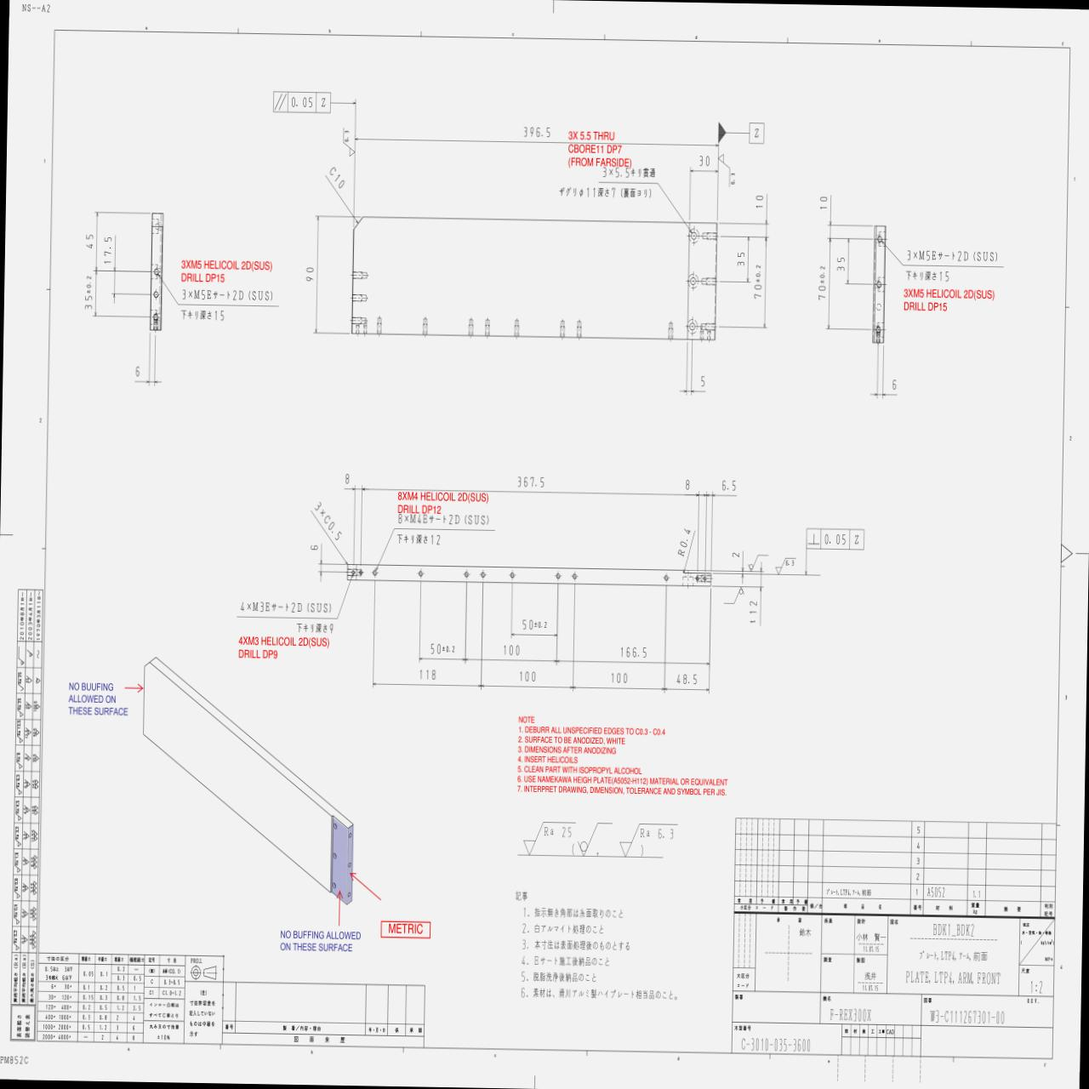basic_dimension: (518, 475, 545, 489), (84, 274, 93, 310), (523, 126, 550, 138), (621, 647, 647, 658), (818, 265, 826, 300), (523, 619, 548, 630), (754, 265, 762, 299), (431, 644, 455, 654), (677, 674, 697, 685), (104, 237, 112, 264), (615, 167, 630, 179), (721, 479, 736, 491), (612, 673, 628, 684), (420, 670, 436, 680), (520, 671, 536, 681), (504, 645, 519, 655), (85, 234, 94, 249), (699, 155, 710, 167), (737, 252, 745, 266), (837, 257, 845, 271), (306, 268, 314, 281), (755, 196, 763, 208), (820, 197, 827, 209), (685, 479, 690, 491), (345, 474, 350, 484), (136, 365, 140, 377), (732, 552, 740, 558), (701, 376, 705, 386), (893, 379, 896, 390), (311, 546, 319, 550)
datum_symbol: (718, 122, 764, 144)
dimension_chamfer_symbol: (322, 513, 342, 541), (329, 166, 345, 189)
dimension_diameter_symbol: (579, 188, 595, 198)
dimension_metric_symbol: (194, 289, 206, 301), (410, 513, 421, 525), (252, 602, 264, 613), (913, 288, 924, 298)
dimension_radius_symbol: (678, 526, 691, 557)
dimension_thickness_symbol: (749, 601, 757, 625)
gdt_frame_symbol: (271, 88, 332, 116), (805, 528, 866, 553)
gdt_parallelism_symbol: (274, 93, 287, 111)
gdt_perpendicularity_symbol: (808, 534, 820, 544)
surface_finish_symbol: (718, 154, 735, 187), (724, 586, 745, 604), (775, 558, 796, 575), (748, 555, 769, 572), (343, 128, 355, 157)
